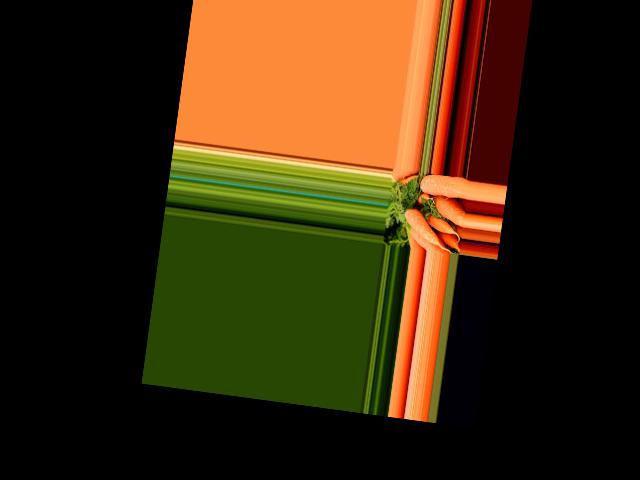carrot: (416, 172, 469, 202)
